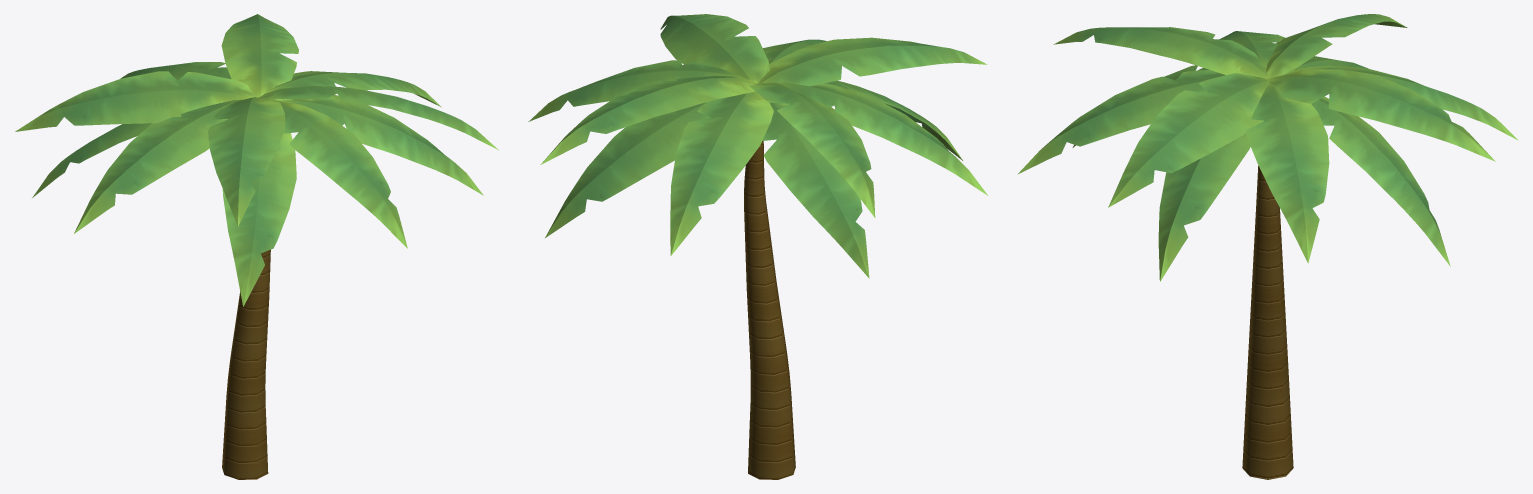
Rendered from PalmTree.fbx.
3 views of the same model, side by side, from view 1: azimuth 30°, elevation 25°; view 2: azimuth 150°, elevation 25°; view 3: azimuth 270°, elevation 25° (orthographic). The views are drawn at different scales.
Parts seen in each view (by area): view 1: OCPalmTreeLeafCrown.001, OCPalmTreeLeafCrown, OCPalmTreeLeafCrown.002, PalmTreeTrunk; view 2: OCPalmTreeLeafCrown.002, OCPalmTreeLeafCrown, OCPalmTreeLeafCrown.001, PalmTreeTrunk; view 3: OCPalmTreeLeafCrown.002, OCPalmTreeLeafCrown, OCPalmTreeLeafCrown.001, PalmTreeTrunk.
Boxes of the visible parts, bbox=[...] form: OCPalmTreeLeafCrown.001: bbox=[15, 14, 483, 306]; OCPalmTreeLeafCrown: bbox=[74, 62, 441, 248]; OCPalmTreeLeafCrown.002: bbox=[32, 86, 498, 226]; PalmTreeTrunk: bbox=[222, 249, 270, 479]; OCPalmTreeLeafCrown.002: bbox=[545, 14, 987, 278]; OCPalmTreeLeafCrown: bbox=[528, 39, 987, 255]; OCPalmTreeLeafCrown.001: bbox=[540, 75, 962, 217]; PalmTreeTrunk: bbox=[744, 141, 795, 479]; OCPalmTreeLeafCrown.002: bbox=[1053, 27, 1450, 266]; OCPalmTreeLeafCrown: bbox=[1017, 31, 1518, 263]; OCPalmTreeLeafCrown.001: bbox=[1072, 14, 1495, 281]; PalmTreeTrunk: bbox=[1242, 165, 1293, 479].
Size of what is drawn, in the model's own units: 28.76 by 28.76 by 26.15.
